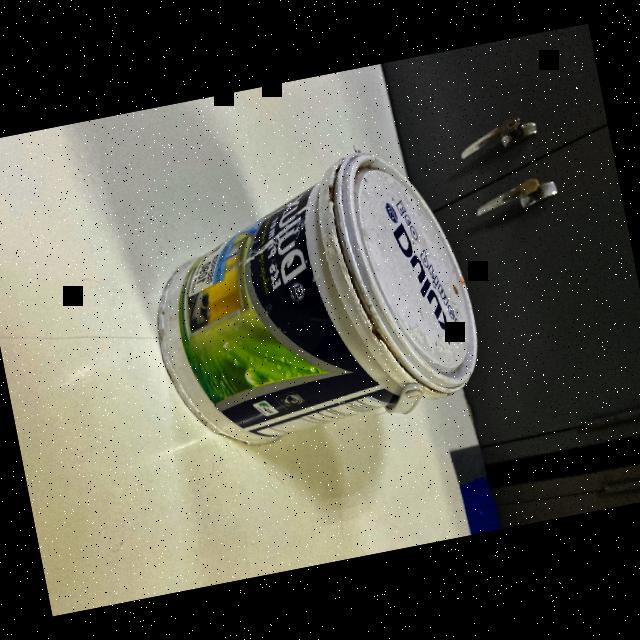paint_bucket: (124, 127, 520, 480)
